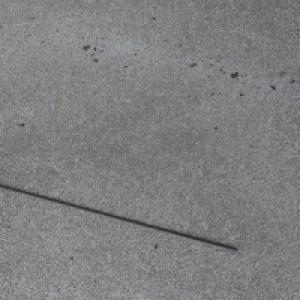LuggagePart: (0, 183, 240, 251)
